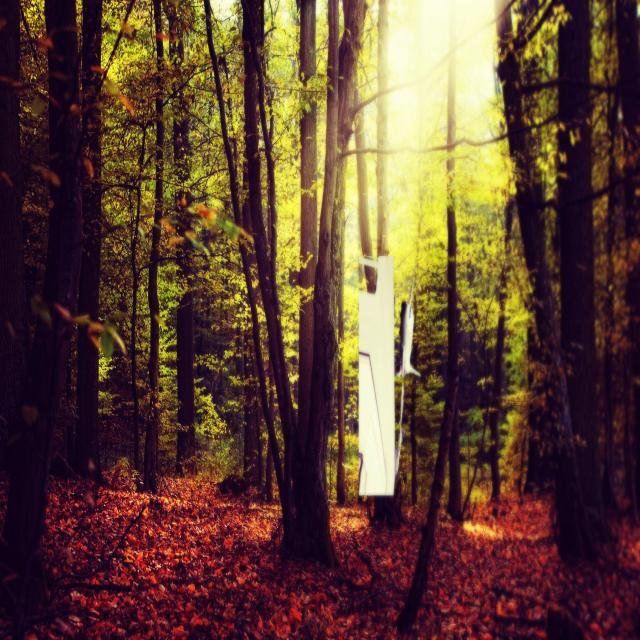airplane: (399, 293, 421, 393)
